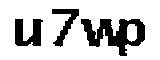7: (45, 6, 81, 50)
p: (120, 18, 146, 60)
u: (12, 15, 46, 52)
w: (80, 17, 121, 48)
